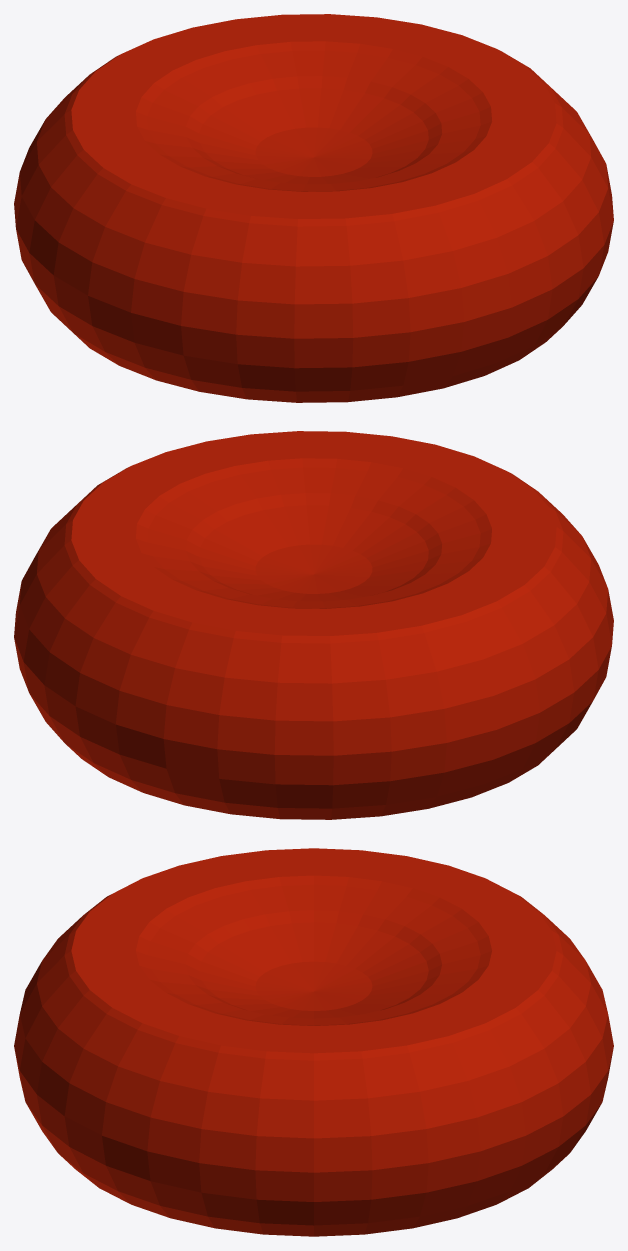
File: RedBloodCell.fbx
The picture shows the model from 3 angles, top to bottom: view 1: azimuth 30°, elevation 25°; view 2: azimuth 150°, elevation 25°; view 3: azimuth 270°, elevation 25°; orthographic projection.
Parts seen in each view (by area): view 1: Sphere; view 2: Sphere; view 3: Sphere.
Part boxes in pixels (x1=…): Sphere: x1=14, y1=14, x2=613, y2=402; Sphere: x1=14, y1=431, x2=613, y2=819; Sphere: x1=14, y1=848, x2=613, y2=1236.
Size of the model in its own units: 200 by 65 by 200.
